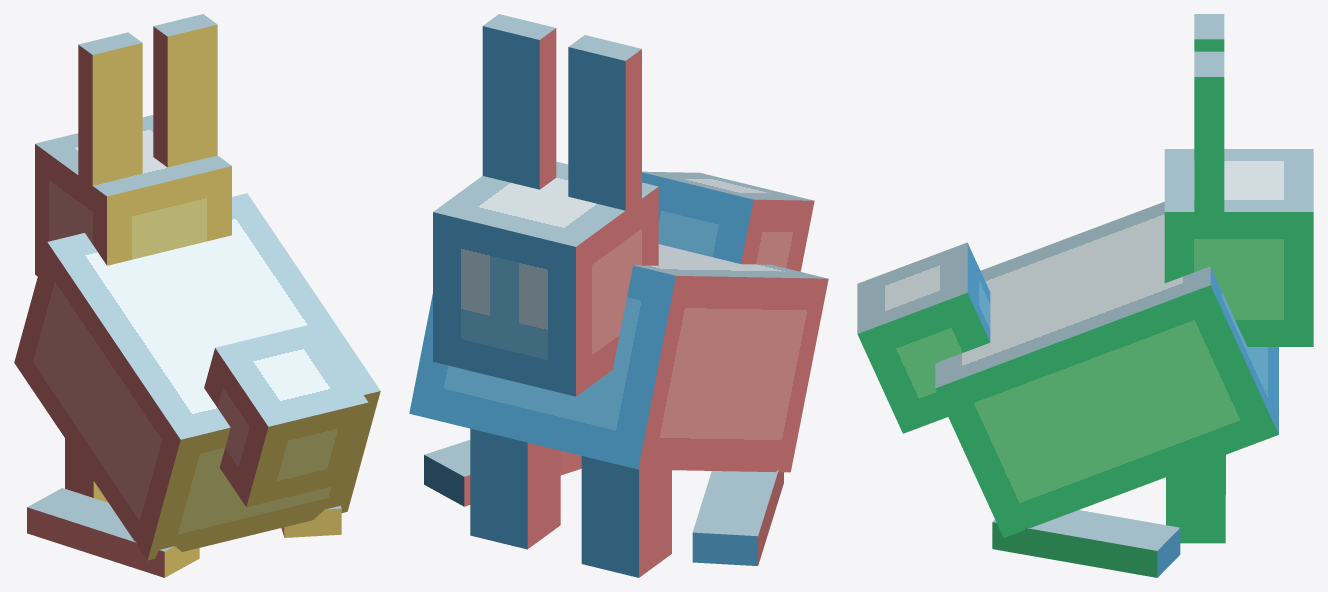
File: rabbit_model.gltf
The picture shows the model from 3 angles, left to right: view 1: azimuth 30°, elevation 25°; view 2: azimuth 150°, elevation 25°; view 3: azimuth 270°, elevation 25°; orthographic projection. The views are drawn at different scales.
Parts seen in each view (by area): view 1: body, tail, head, left_ear, right_ear, leftBackLeg, rightBackLeg, leftFrontLeg; view 2: body, head, right_ear, left_ear, tail, leftFrontLeg, rightFrontLeg, leftBackLeg, rightBackLeg; view 3: body, head, tail, rightBackLeg, right_ear, rightFrontLeg, left_ear.
Part boxes in pixels (x1=…): body: x1=14, y1=193, x2=380, y2=560; tail: x1=204, y1=323, x2=368, y2=507; head: x1=35, y1=115, x2=231, y2=276; left_ear: x1=78, y1=32, x2=142, y2=185; right_ear: x1=153, y1=14, x2=217, y2=167; leftBackLeg: x1=27, y1=488, x2=199, y2=577; rightBackLeg: x1=281, y1=505, x2=341, y2=537; leftFrontLeg: x1=65, y1=438, x2=108, y2=502; body: x1=409, y1=244, x2=828, y2=472; head: x1=433, y1=161, x2=658, y2=396; right_ear: x1=482, y1=14, x2=556, y2=189; left_ear: x1=568, y1=35, x2=641, y2=210; tail: x1=642, y1=171, x2=814, y2=271; leftFrontLeg: x1=581, y1=456, x2=671, y2=577; rightFrontLeg: x1=470, y1=428, x2=560, y2=549; leftBackLeg: x1=692, y1=470, x2=783, y2=565; rightBackLeg: x1=424, y1=440, x2=581, y2=506; body: x1=935, y1=201, x2=1278, y2=537; head: x1=1164, y1=149, x2=1313, y2=346; tail: x1=857, y1=242, x2=990, y2=433; rightBackLeg: x1=992, y1=510, x2=1180, y2=577; right_ear: x1=1194, y1=51, x2=1224, y2=211; rightFrontLeg: x1=1166, y1=455, x2=1225, y2=543; left_ear: x1=1194, y1=14, x2=1224, y2=51.
Size of the model in its own units: 0.7297 by 1.07 by 0.9569.
1 material, 1 textured.
